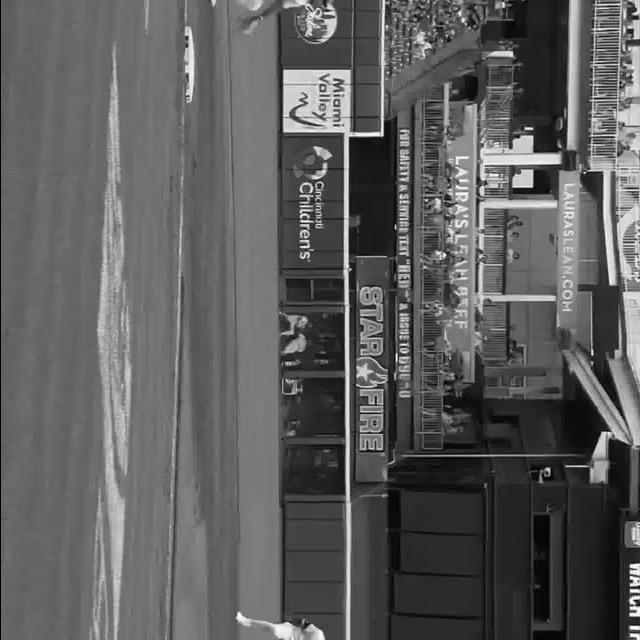base: (181, 19, 192, 101)
shoe: (232, 614, 240, 628)
